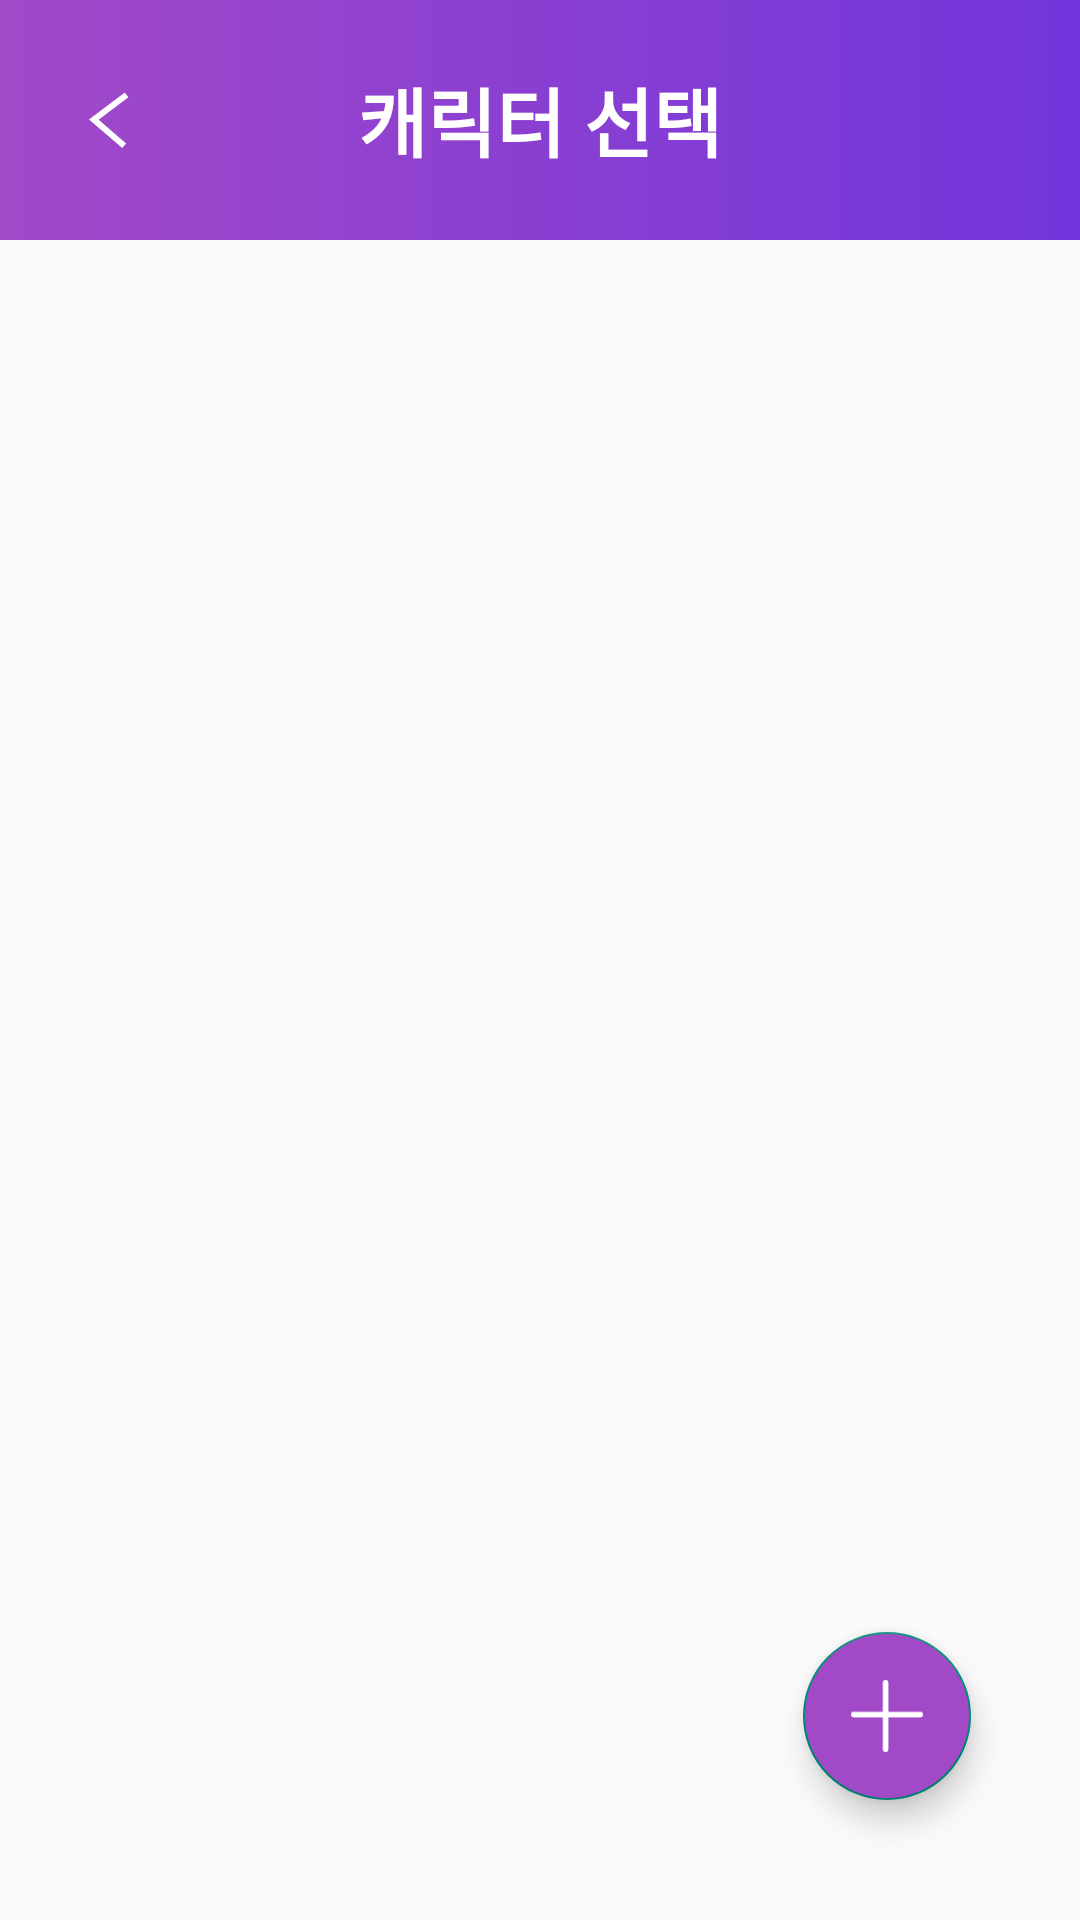

Screen size 1080×1920. Icon name, then its center in pixels as [x,y]:
back: [109,120]
plus: [887,1716]
